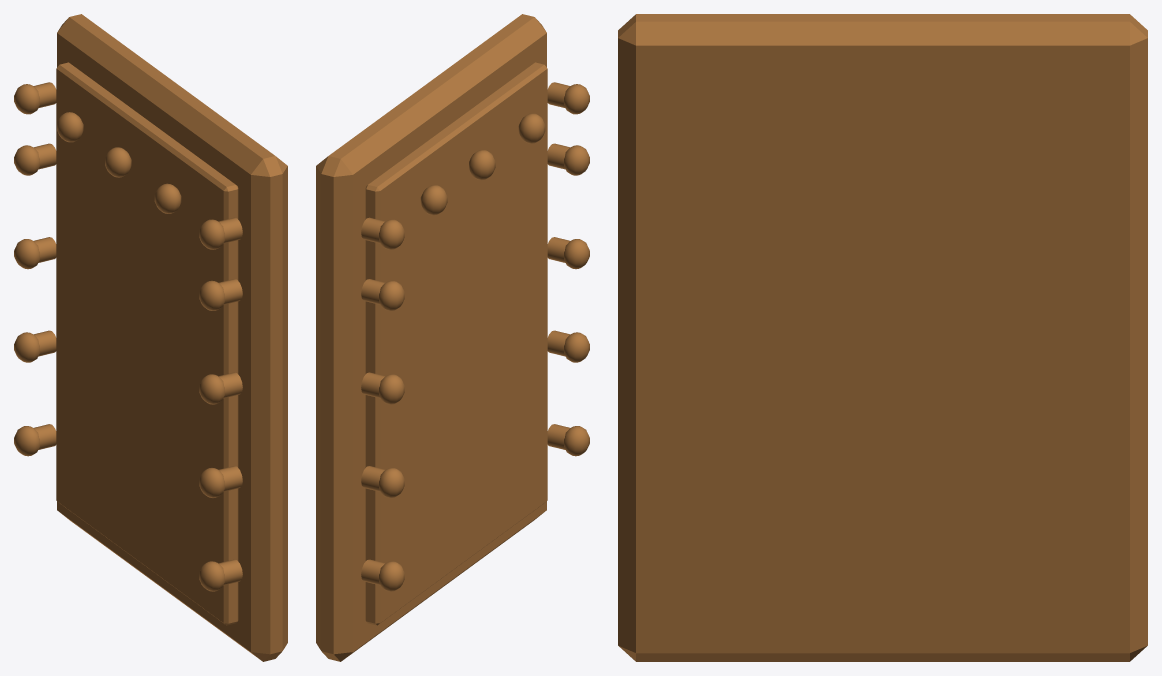
Rendered from SM_Menu_VanityMirror.fbx.
The picture shows the model from 3 angles, left to right: view 1: azimuth 30°, elevation 25°; view 2: azimuth 150°, elevation 25°; view 3: azimuth 270°, elevation 25°; orthographic projection. The views are drawn at different scales.
Visible parts, largest first — view 1: SM_Menu_VanityMirror; view 2: SM_Menu_VanityMirror; view 3: SM_Menu_VanityMirror.
Part boxes in pixels (box(x1,y1,x2,y2)): SM_Menu_VanityMirror: box(14, 14, 287, 661); SM_Menu_VanityMirror: box(316, 14, 589, 661); SM_Menu_VanityMirror: box(618, 14, 1147, 661).
Size of the model in its own units: 26.61 by 117 by 156.
